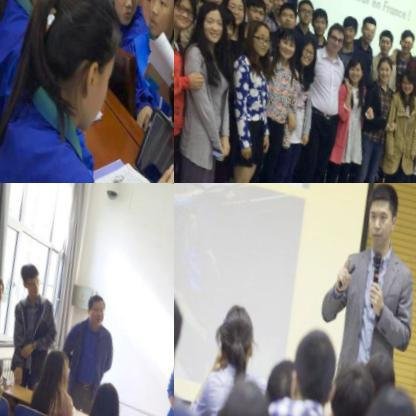head: (24, 0, 129, 144), (281, 320, 343, 411), (318, 348, 382, 416), (206, 291, 258, 368), (197, 365, 275, 416), (351, 336, 400, 409), (357, 183, 404, 247), (348, 373, 416, 416), (35, 339, 70, 390), (85, 372, 123, 416), (174, 281, 190, 384), (192, 0, 224, 40), (138, 0, 174, 35), (244, 13, 273, 56), (95, 0, 146, 24), (13, 256, 44, 293), (320, 15, 349, 50), (270, 17, 296, 56), (292, 27, 318, 64), (211, 2, 236, 39), (83, 287, 106, 324), (356, 5, 378, 42), (306, 1, 330, 33), (174, 0, 198, 29), (219, 0, 248, 24), (273, 0, 297, 29), (393, 59, 414, 92), (372, 48, 393, 78), (394, 19, 415, 49), (374, 20, 394, 51), (241, 0, 267, 21), (343, 50, 362, 78), (340, 11, 359, 39), (291, 0, 313, 23), (251, 0, 276, 14), (266, 0, 288, 12)
